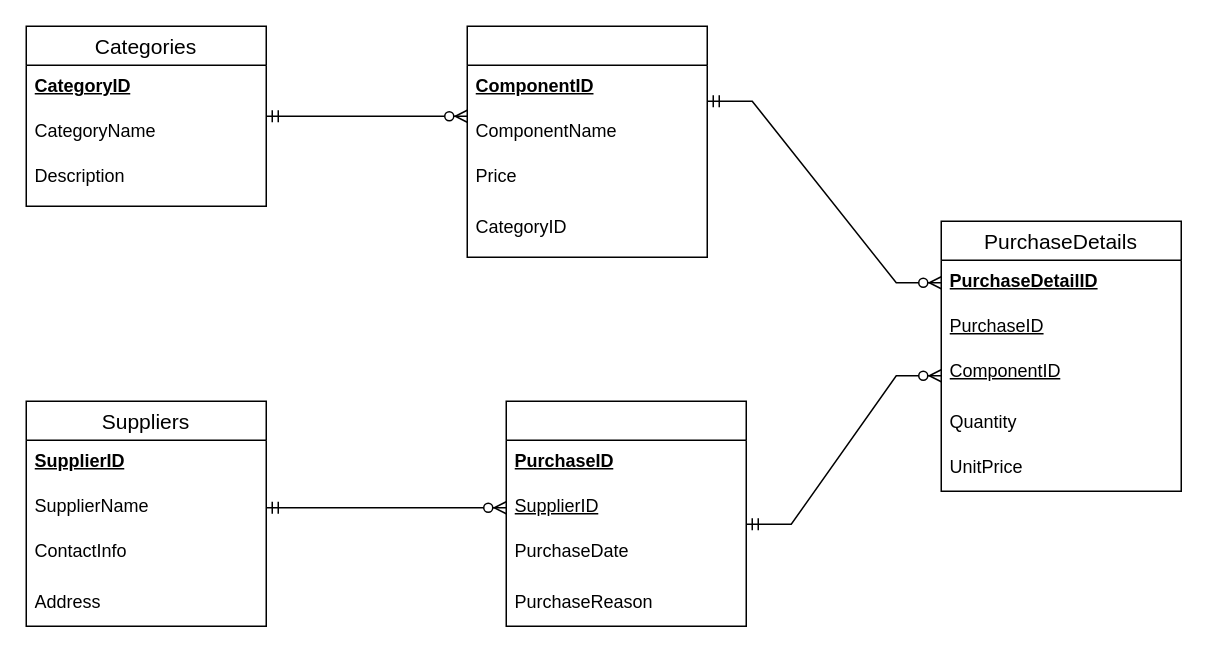
Image size: 1208x657. Some labels were removed from this diagram. Each missing label, with the box of its shape:
Components: (466, 25, 707, 257)
Purchases: (505, 400, 746, 626)
